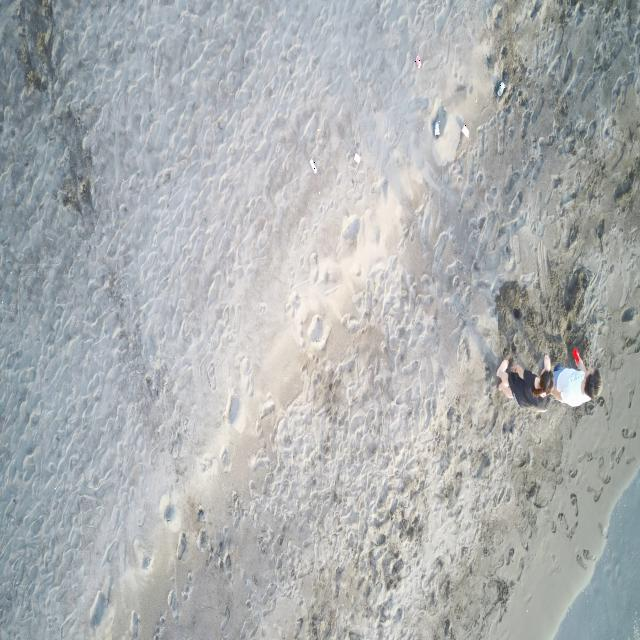tin-and-aluminum-cans: (460, 124, 470, 138), (309, 158, 317, 174), (497, 82, 505, 96), (415, 55, 422, 69), (434, 121, 440, 137), (354, 152, 360, 164)
